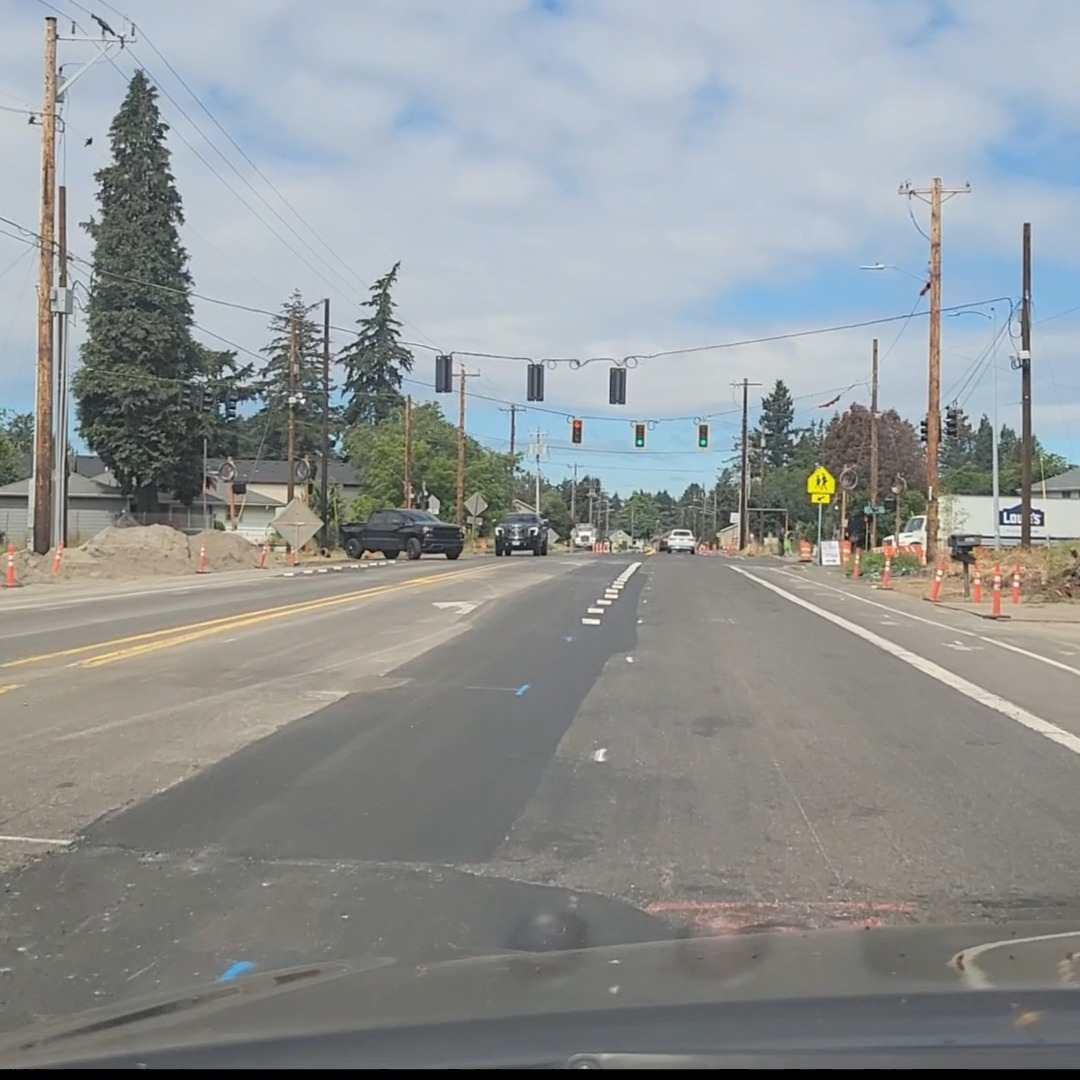car: (336, 508, 463, 560), (492, 512, 550, 556), (662, 529, 697, 553), (570, 522, 597, 549)
crosswalk-sign: (806, 466, 835, 504)
delineator: (924, 558, 943, 602), (2, 544, 19, 586), (1010, 565, 1022, 604), (971, 564, 983, 603), (196, 544, 210, 573), (51, 543, 64, 574), (257, 540, 270, 569), (852, 547, 862, 577), (290, 542, 298, 566)
